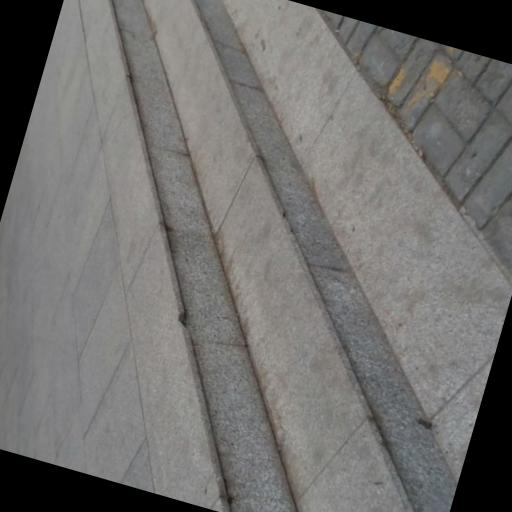stairs: (80, 0, 456, 511)
